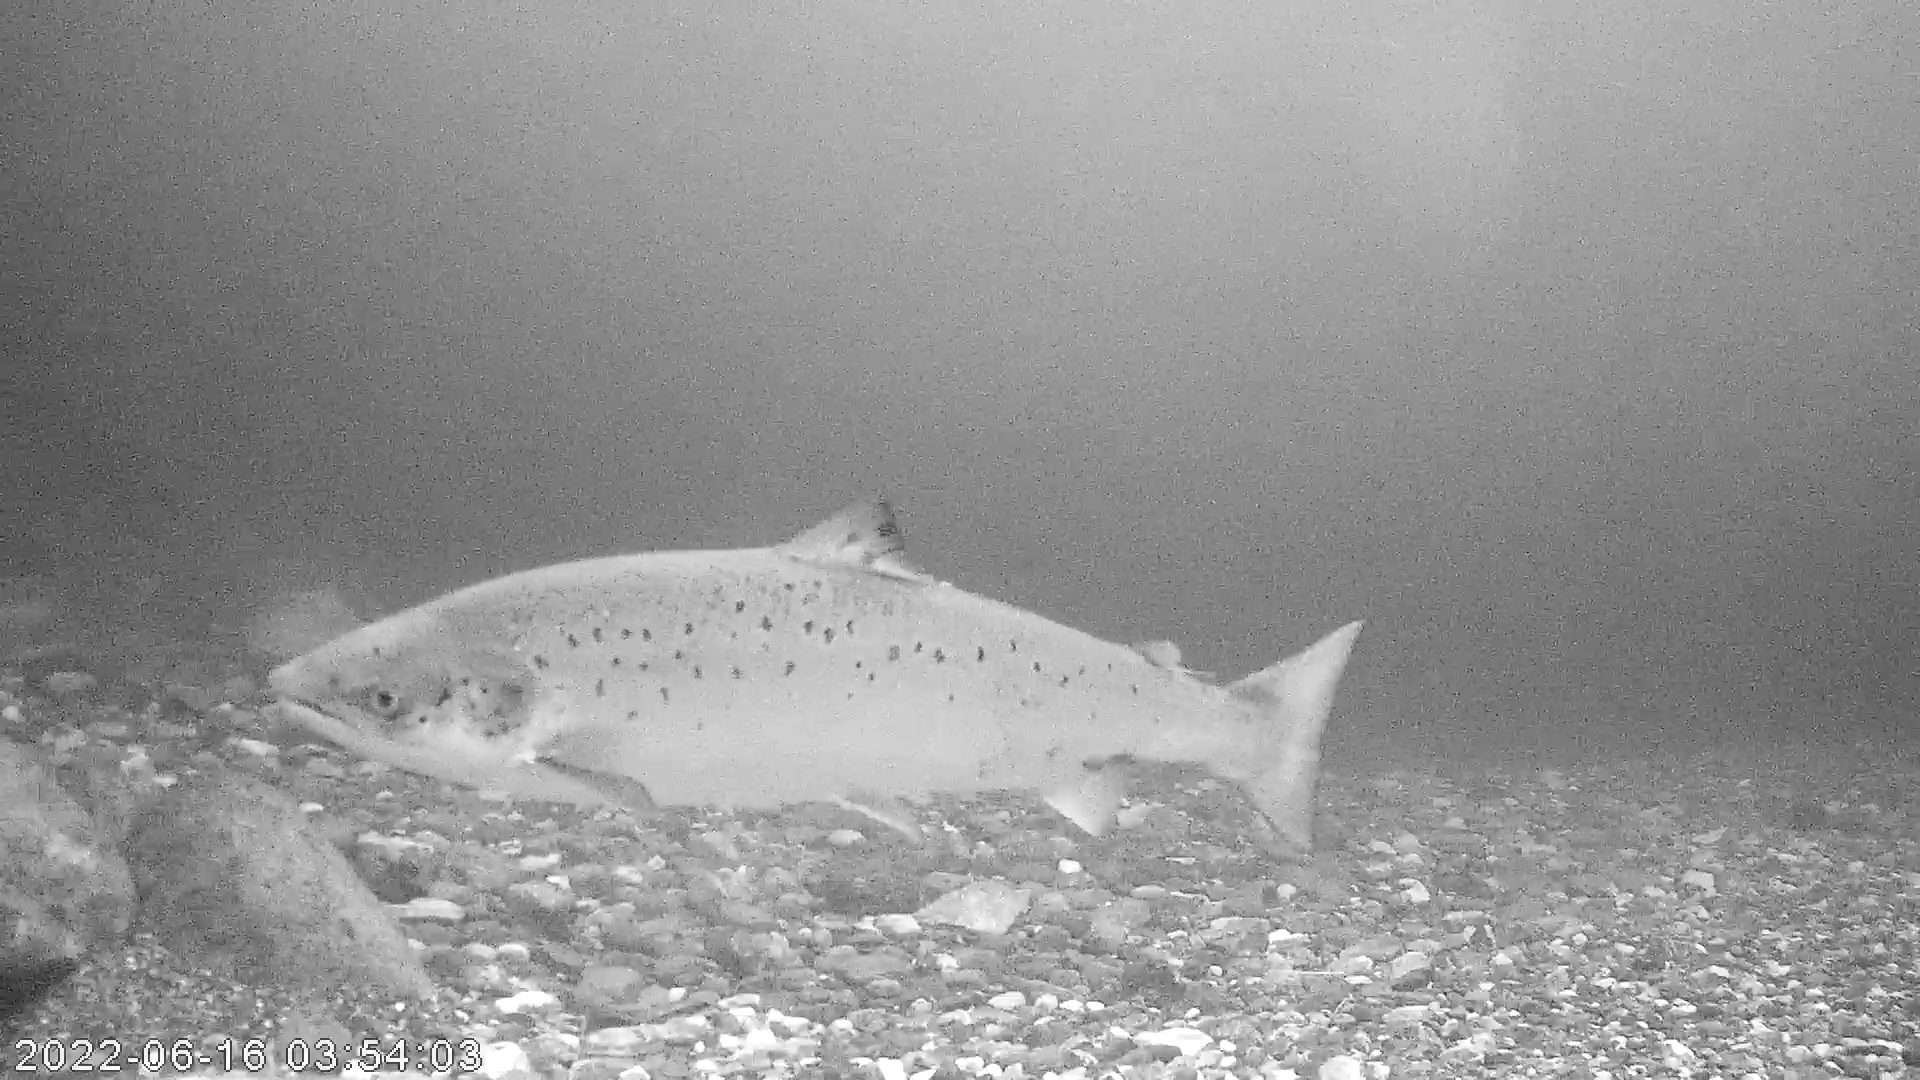salmon: (262, 491, 1365, 856)
